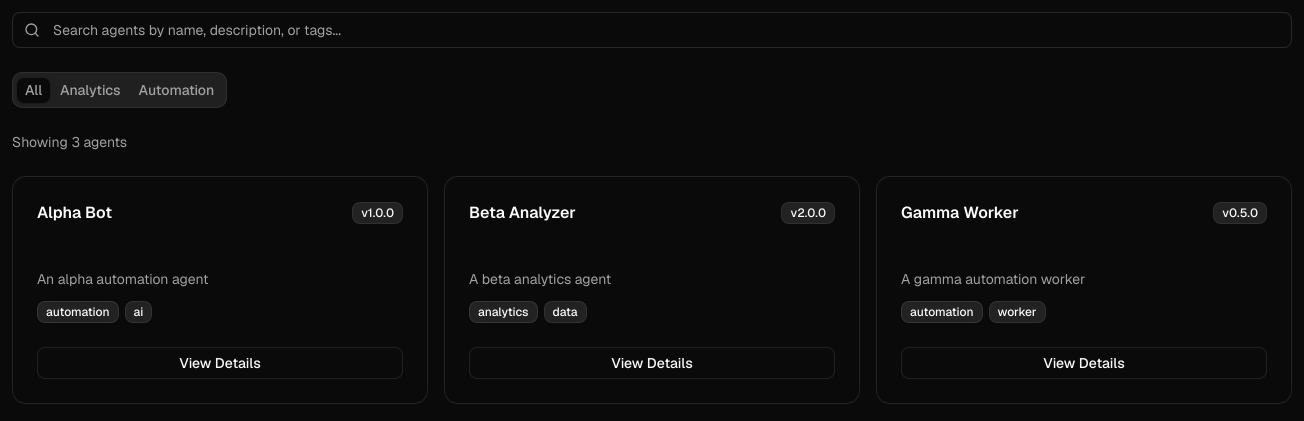
RegistryContent › filters agents by description
Type "analytics" into the field with placeholder "Search agents by name, description, or tags...".
click(652, 30); type("analytics")  # box top-left (12, 12), bottom-right (1292, 48)
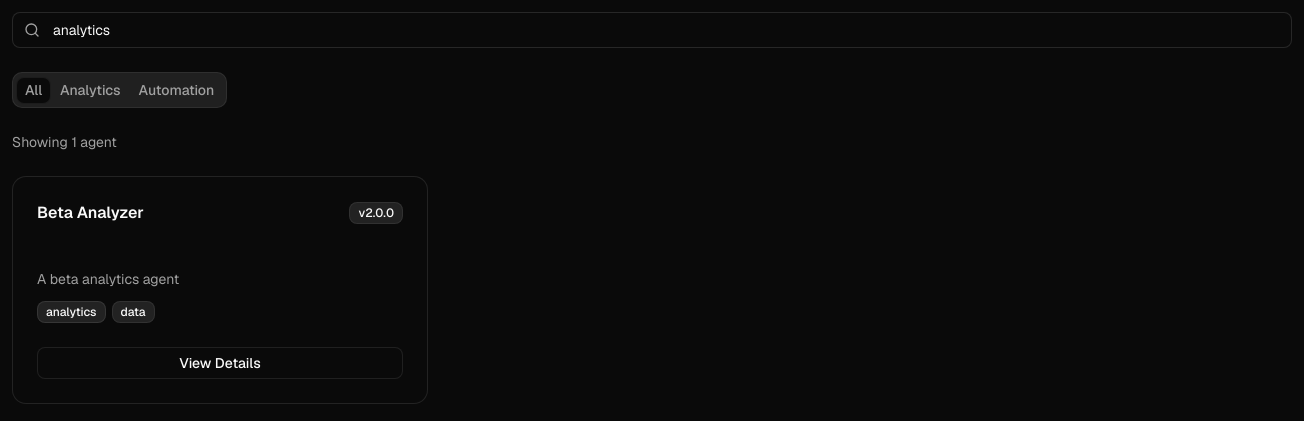
Expected: the text "Beta Analyzer" is shown, top-left (37, 201), bottom-right (144, 225)
Expected: the text "Alpha Bot" is gone
